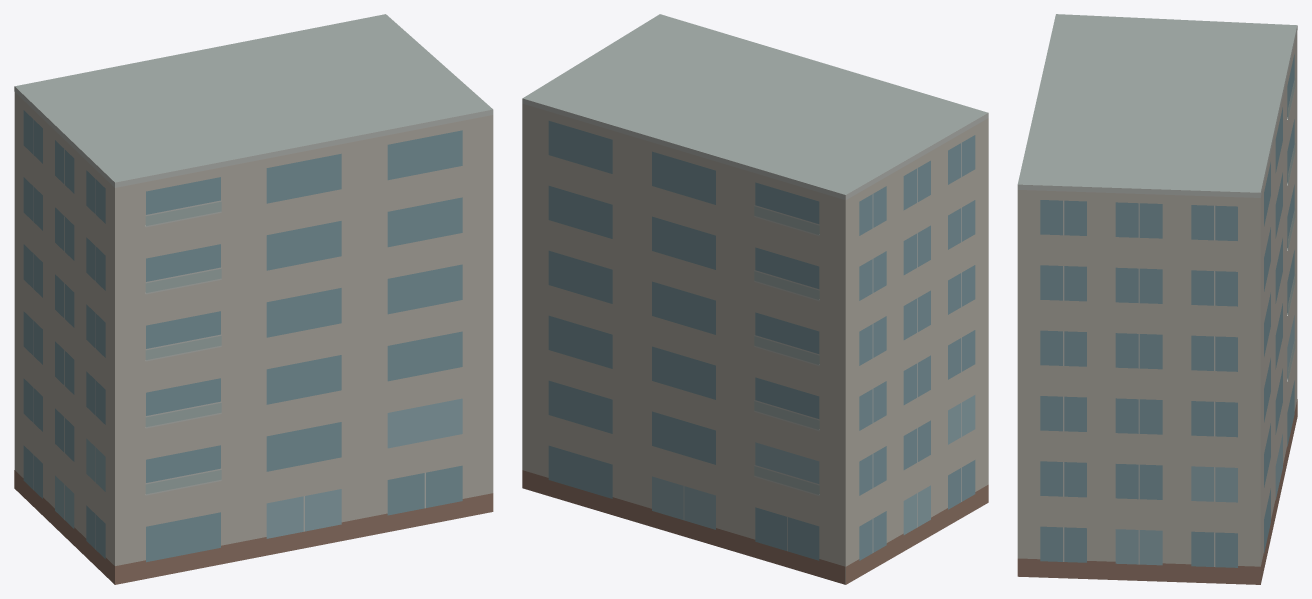
Rendered from survey-upis-32567047.glb.
3 views of the same model, side by side, from view 1: azimuth 30°, elevation 25°; view 2: azimuth 150°, elevation 25°; view 3: azimuth 270°, elevation 25° (orthographic). The views are drawn at different scales.
Visible parts, largest first — view 1: survey-upis-32567047.tmp; view 2: survey-upis-32567047.tmp; view 3: survey-upis-32567047.tmp.
Part boxes in pixels (<box>): survey-upis-32567047.tmp: <box>14,14,493,584</box>; survey-upis-32567047.tmp: <box>522,14,988,584</box>; survey-upis-32567047.tmp: <box>1017,14,1297,584</box>.
Size of the model in its own units: 17.91 by 18.3 by 11.85.
